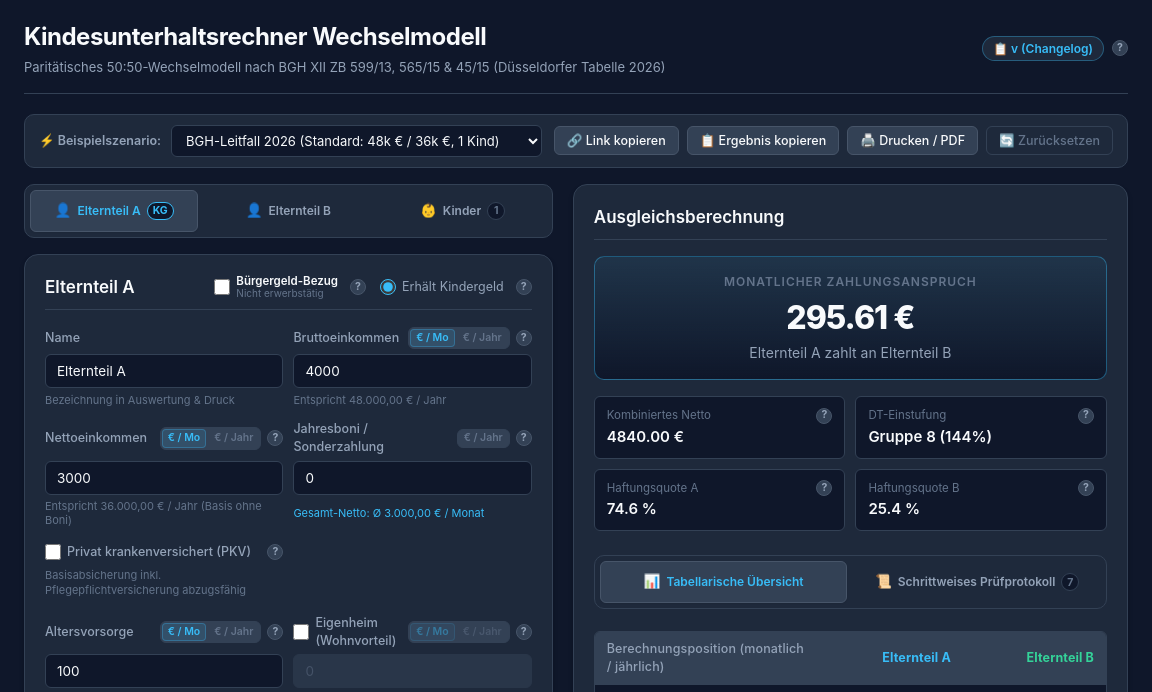
Test: Kindernamen-Vereinheitlichung und dynamische Altersgruppen-Synchronisation › initialisiert Kind 1 im Standard-Fall als 'Kind 1 (6–11 Jahre)'
The width and height of the screenshot is (1152, 692).
// Zum Kinder-Tab navigieren
Click the button "👶 Kinder 1" at coordinates (463, 211), box [378,190,547,232]
(page scrolled)
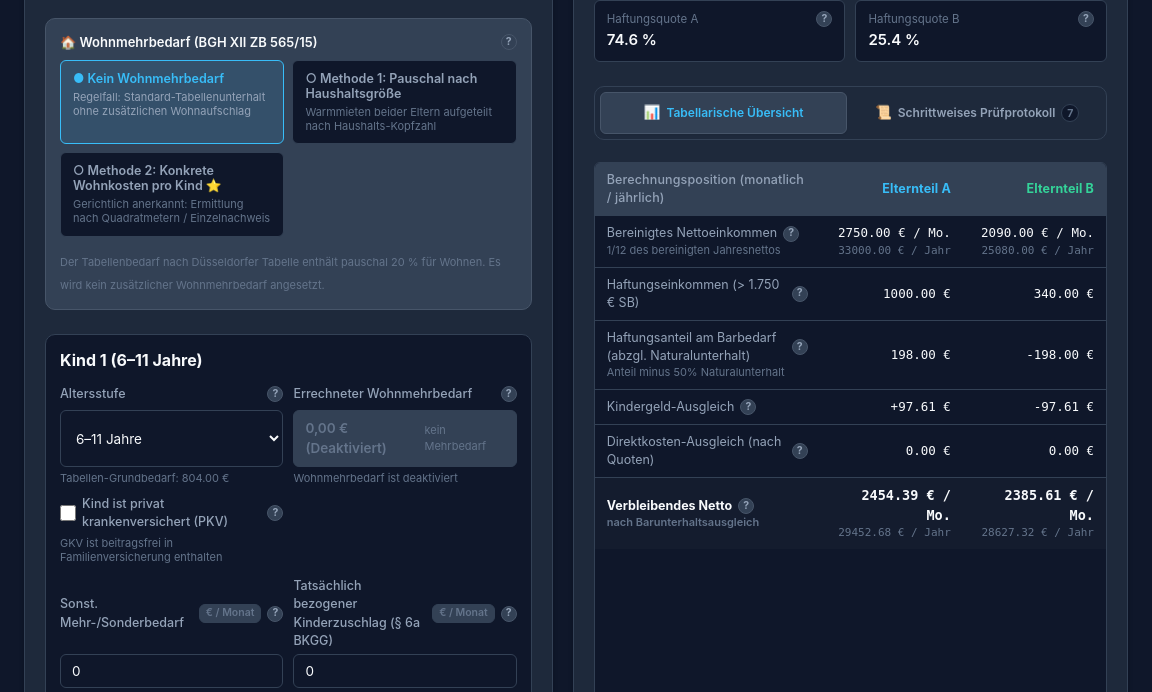
Now the text "Kind 1 (6–11 Jahre)" is shown, box [60,349,203,372]
